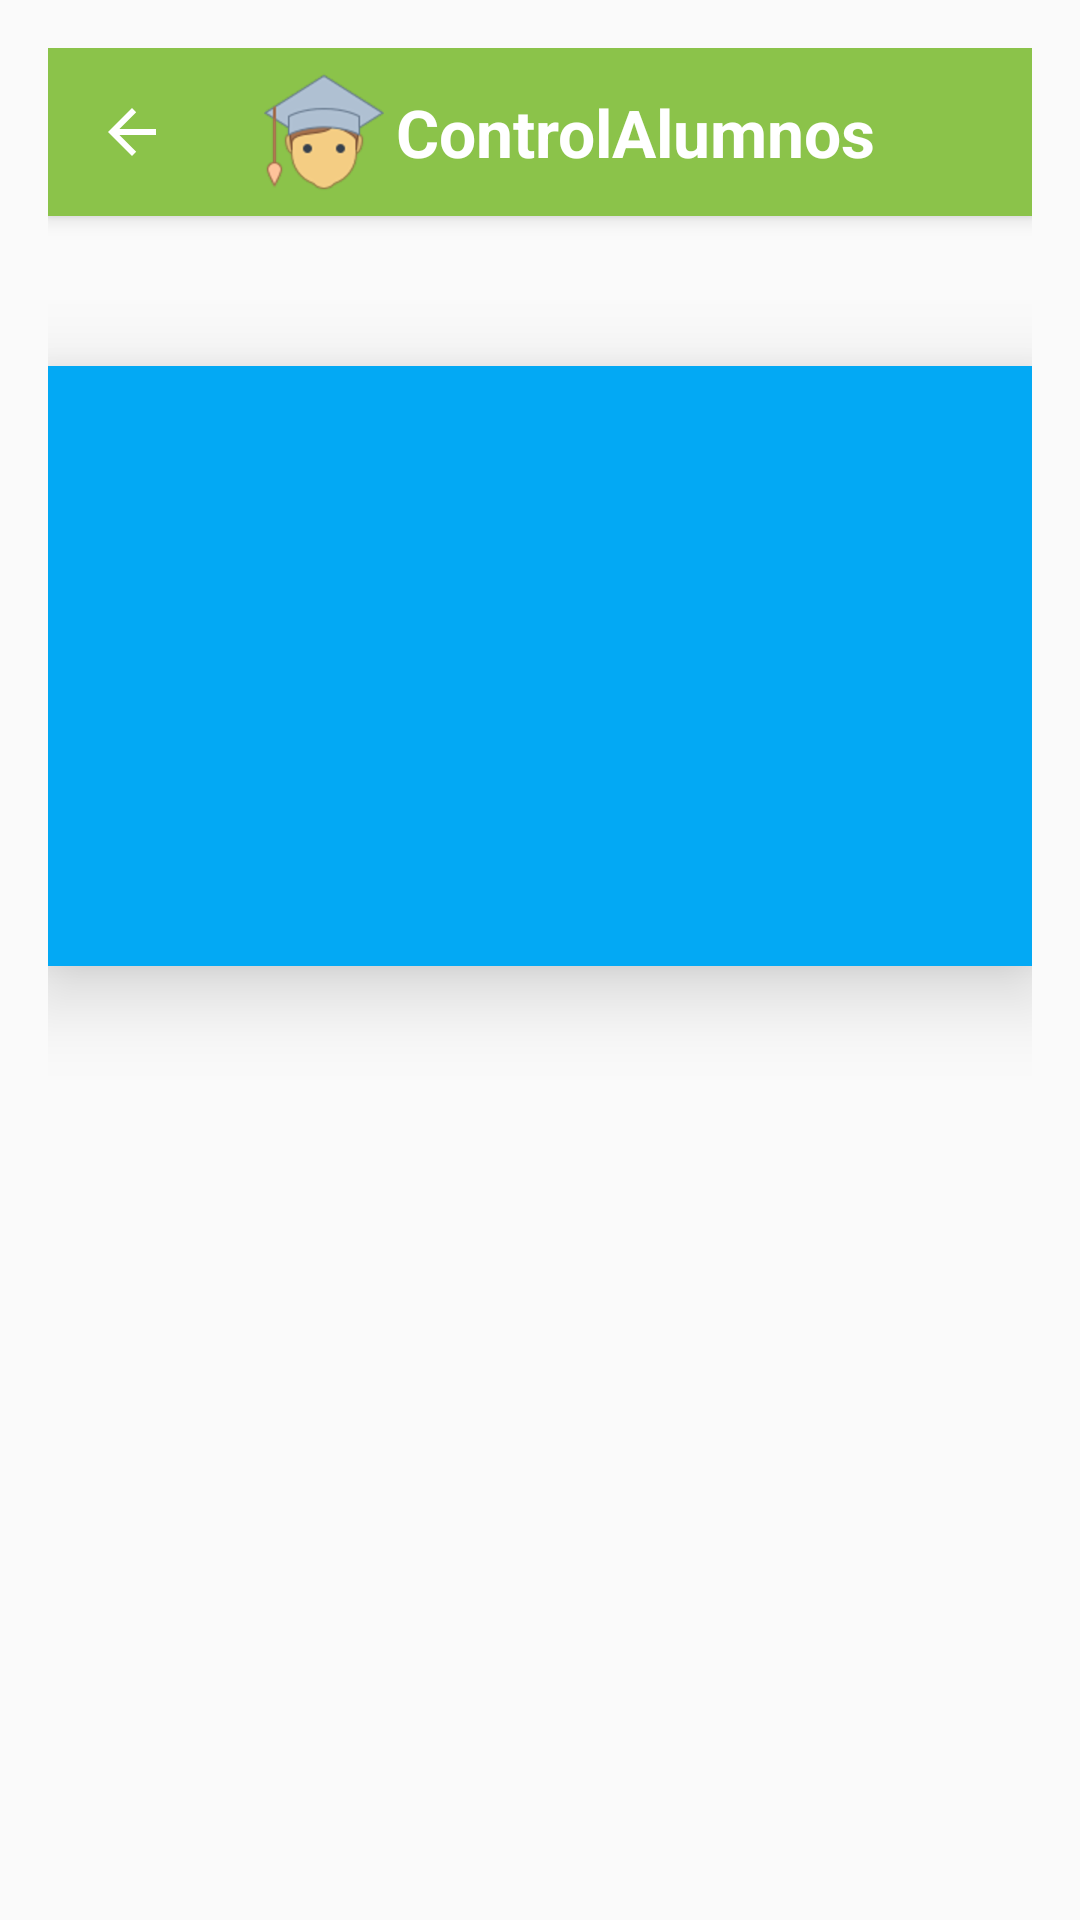

Where to tap for icons on this 1080 × 1920 app screen, as (x=x, y=y):
estudiante masculino: (x=324, y=132)
